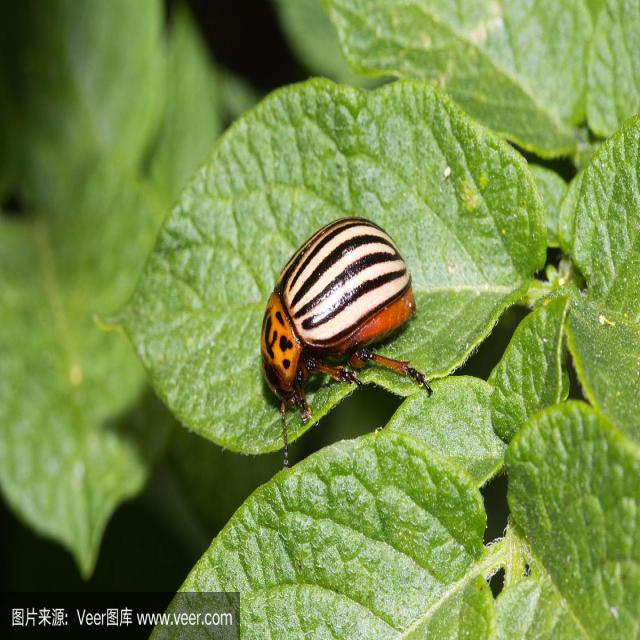ShuCaiHuaBanChong-Grown-: (251, 211, 435, 415)
